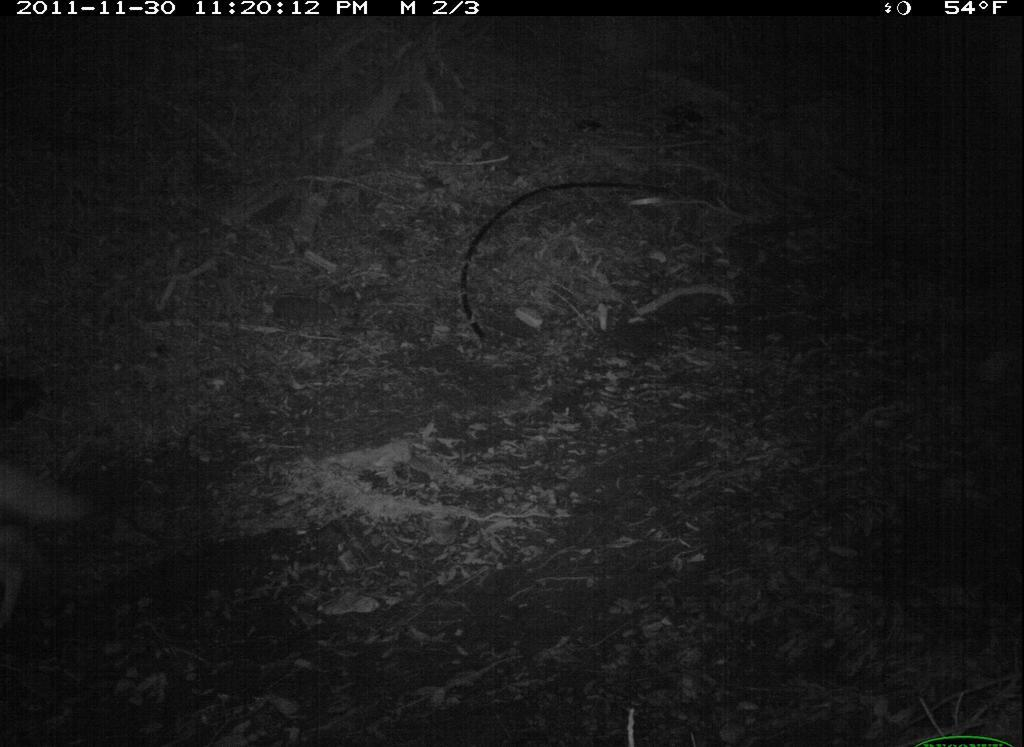coyote: (2, 404, 112, 644)
